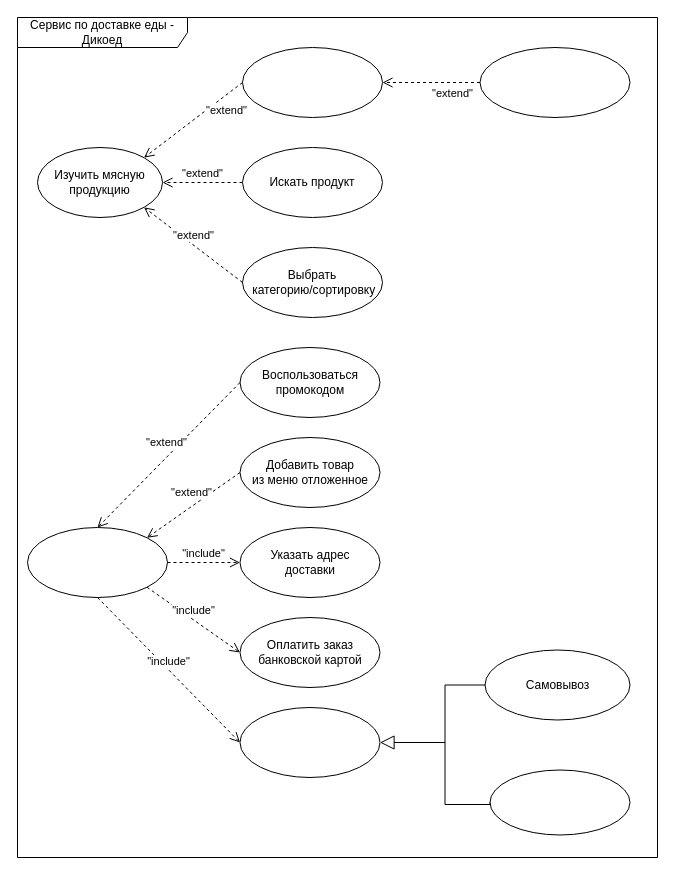
Some shapes in this 675 by 875 pixel diagram are drawn without their labels. Each missing label, with the centre of its shape:
CRUD корзина: the point at 312,82
Выбрать способ получения: the point at 309,742
Доставка: the point at 559,802
Переместить товар в отложенное: the point at 554,82
Сделать заказ: the point at 97,562
